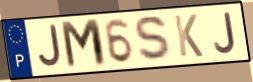6: (104, 17, 136, 65)
J: (37, 24, 64, 71), (212, 10, 238, 56)
K: (172, 13, 205, 59)
M: (58, 17, 109, 72)
S: (133, 14, 175, 64)
